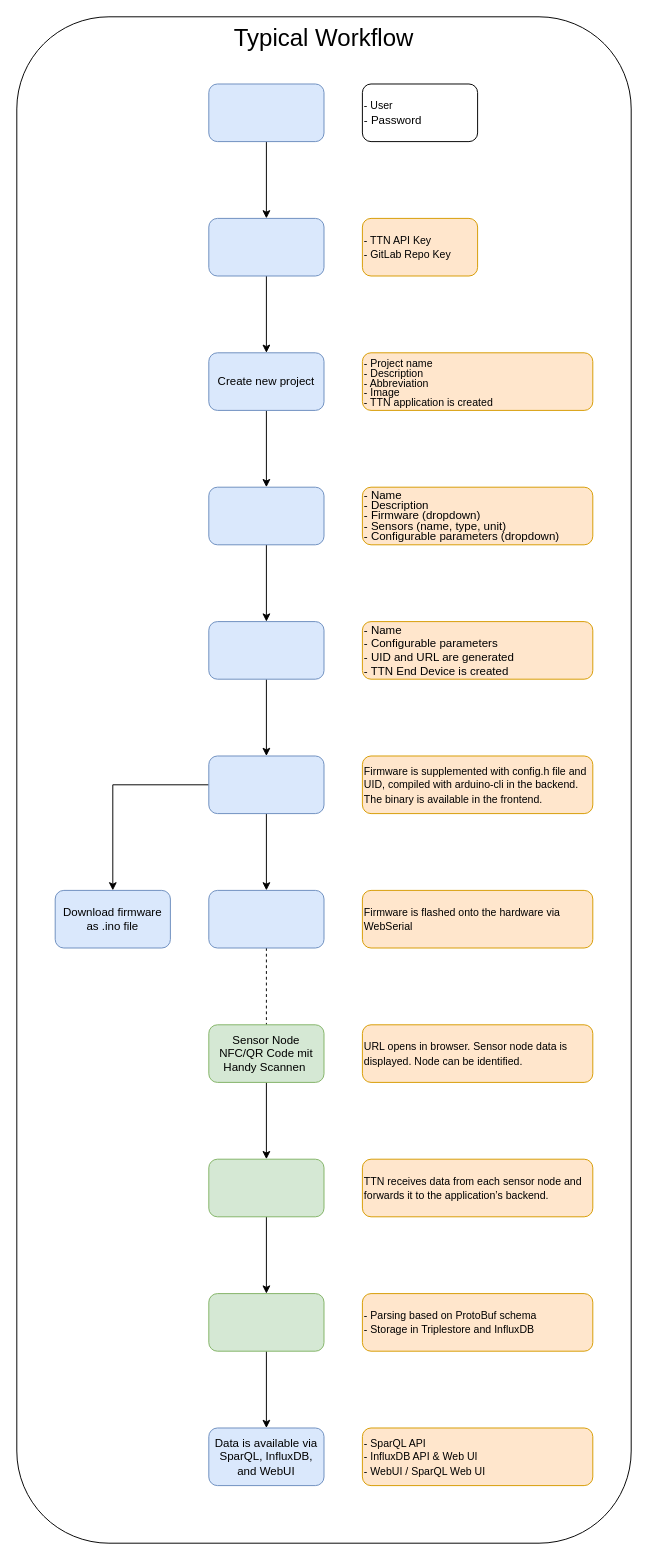
This 648x1560 diagram has some shape labels left out. Each missing label, with the box of its shape:
Compile firmware: (208, 755, 324, 814)
Create new sensor node: (208, 621, 324, 679)
Create new sensor node template: (208, 486, 324, 545)
Data packet is parsed and stored in the triplestore: (208, 1293, 324, 1351)
Flash firmware: (208, 889, 324, 948)
Initial setup: (208, 217, 324, 276)
Researcher login: (208, 83, 324, 142)
Sensor node is online and transmitting data to TTN: (208, 1158, 324, 1217)
